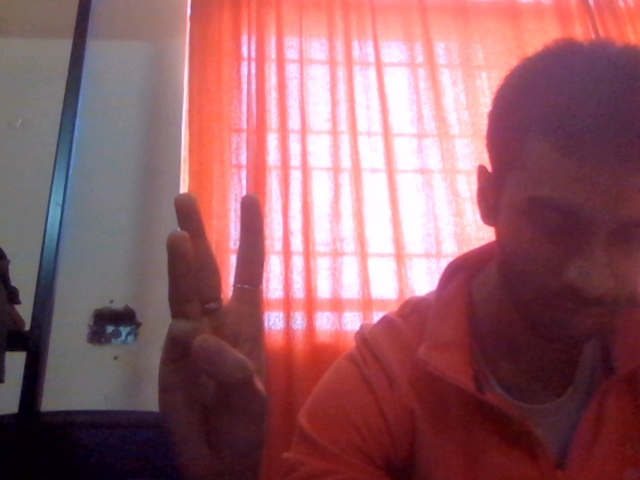W: (103, 147, 361, 480)
